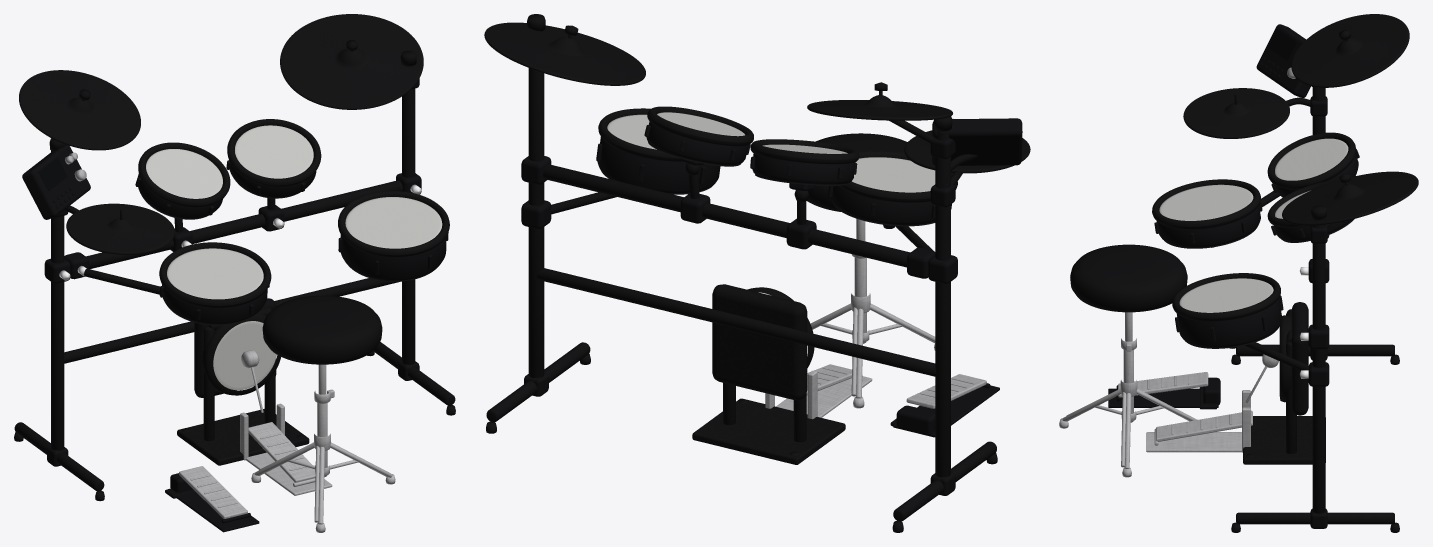
Rendered from ElectronicKit.glb.
3 views of the same model, side by side, from view 1: azimuth 30°, elevation 25°; view 2: azimuth 150°, elevation 25°; view 3: azimuth 270°, elevation 25° (orthographic). The views are drawn at different scales.
Visible parts, largest first — view 1: Ride_Cymbal, Crash_Cymbal, Throne_Seat, Rack_Crossbar, Kick, HiHat_Cymbal, Kick_Pad, FloorTom_Head, Snare_Head, TomMid_Head, Rack_LeftPost, TomHigh_Head (+21 smaller); view 2: Kick, Rack_Crossbar, Ride_Cymbal, Rack_LeftPost, Rack_RightPost, FloorTom_Body, DrumModule_Body, Snare_Body, Crash_Cymbal, TomHigh_Body, Snare_Head, TomMid_Body (+22 smaller); view 3: Throne_Seat, Crash_Cymbal, Kick, Ride_Cymbal, HiHat_Cymbal, Rack_RightPost, FloorTom_Body, Snare_Head, FloorTom_Head, Rack_Leg_Right, Kick_PedalBase, TomHigh_Head (+21 smaller).
Part boxes in pixels (x1=…): Ride_Cymbal: x1=280, y1=14, x2=423, y2=109; Crash_Cymbal: x1=19, y1=70, x2=140, y2=150; Throne_Seat: x1=262, y1=295, x2=382, y2=364; Rack_Crossbar: x1=63, y1=180, x2=402, y2=363; Kick: x1=177, y1=298, x2=309, y2=465; HiHat_Cymbal: x1=66, y1=203, x2=174, y2=254; Kick_Pad: x1=202, y1=313, x2=280, y2=395; FloorTom_Head: x1=345, y1=197, x2=442, y2=248; Snare_Head: x1=167, y1=248, x2=263, y2=299; TomMid_Head: x1=235, y1=125, x2=313, y2=178; Rack_LeftPost: x1=49, y1=138, x2=65, y2=450; TomHigh_Head: x1=146, y1=149, x2=222, y2=198; Kick: x1=692, y1=284, x2=845, y2=464; Rack_Crossbar: x1=536, y1=164, x2=936, y2=376; Ride_Cymbal: x1=484, y1=22, x2=645, y2=85; Rack_LeftPost: x1=933, y1=116, x2=952, y2=477; Rack_RightPost: x1=527, y1=14, x2=545, y2=377; FloorTom_Body: x1=596, y1=137, x2=720, y2=194; DrumModule_Body: x1=932, y1=118, x2=1022, y2=165; Snare_Body: x1=828, y1=185, x2=951, y2=226; Crash_Cymbal: x1=807, y1=95, x2=952, y2=120; TomHigh_Body: x1=750, y1=153, x2=857, y2=190; Snare_Head: x1=852, y1=157, x2=935, y2=192; TomMid_Body: x1=644, y1=121, x2=750, y2=166; Throne_Seat: x1=1070, y1=244, x2=1187, y2=312; Crash_Cymbal: x1=1291, y1=14, x2=1409, y2=87; Kick: x1=1243, y1=302, x2=1325, y2=464; Ride_Cymbal: x1=1282, y1=171, x2=1418, y2=225; HiHat_Cymbal: x1=1183, y1=88, x2=1289, y2=138; Rack_RightPost: x1=1311, y1=205, x2=1326, y2=513; FloorTom_Body: x1=1175, y1=295, x2=1283, y2=348; Snare_Head: x1=1159, y1=184, x2=1253, y2=220; FloorTom_Head: x1=1179, y1=278, x2=1273, y2=312; Rack_Leg_Right: x1=1231, y1=508, x2=1399, y2=532; Kick_PedalBase: x1=1146, y1=390, x2=1250, y2=452; TomHigh_Head: x1=1275, y1=138, x2=1348, y2=180.
Bounding box in the file's own units: 1.39 × 1.12 × 1.04.
9 materials, 9 textured.
